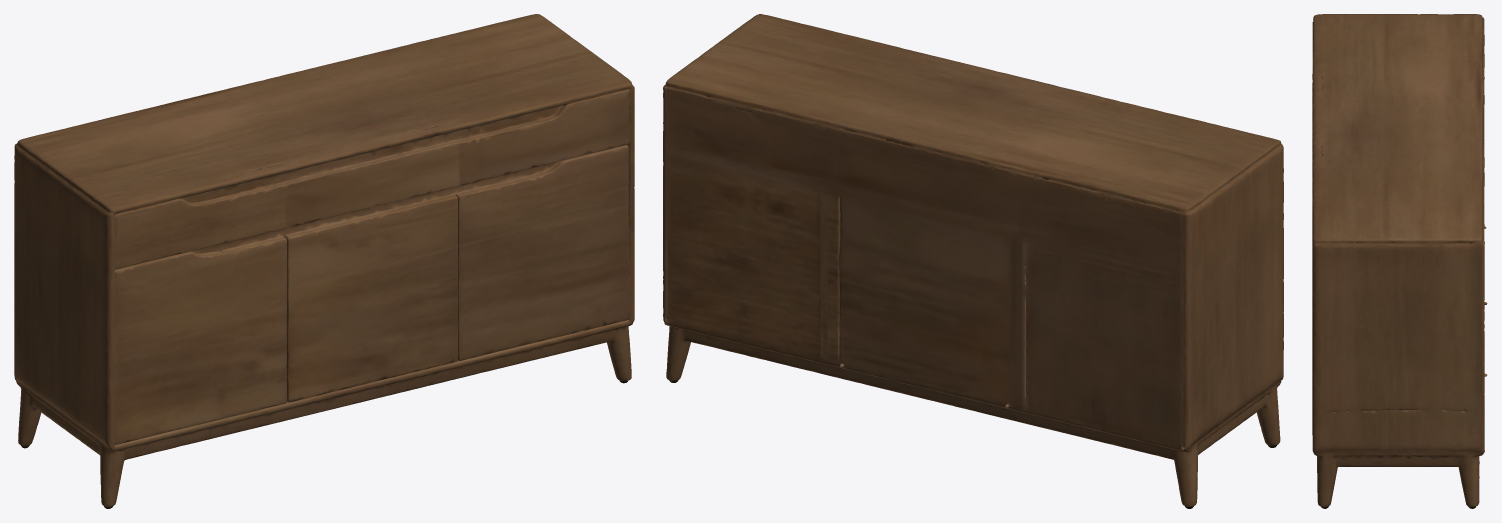
The model's file is closet.glb.
3 renders of one model, left to right at view 1: azimuth 30°, elevation 25°; view 2: azimuth 150°, elevation 25°; view 3: azimuth 270°, elevation 25°, orthographic. The views are drawn at different scales.
Parts seen in each view (by area): view 1: world; view 2: world; view 3: world.
Boxes of the visible parts, x1,y1,x2,y2 form: world: (14, 14, 634, 508); world: (663, 14, 1283, 508); world: (1312, 14, 1487, 508).
Bounding box in the file's own units: 1 × 0.5513 × 0.3236.
Materials: 1 (1 with a texture image).
